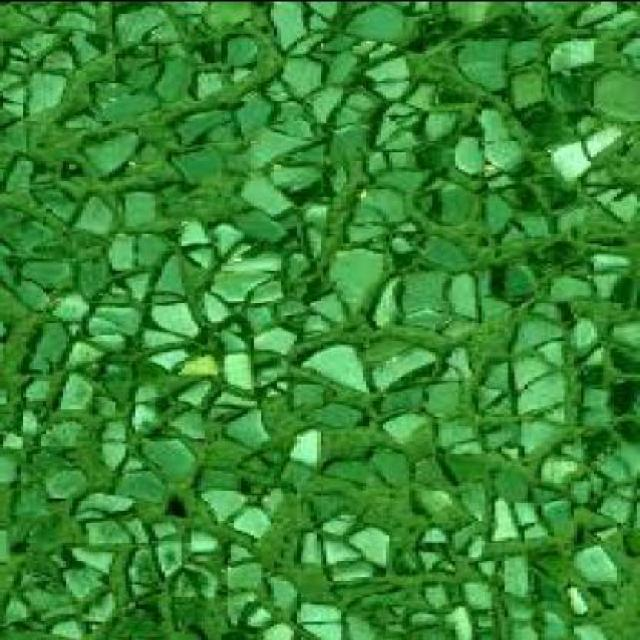GLASS: (1, 1, 638, 638), (3, 5, 435, 312), (385, 279, 607, 627), (3, 203, 280, 428), (307, 435, 587, 593), (212, 373, 419, 533), (393, 110, 581, 280), (3, 454, 172, 638), (366, 324, 446, 382), (80, 128, 146, 183), (99, 73, 172, 119), (307, 340, 379, 386), (245, 163, 306, 215), (400, 264, 458, 307), (512, 309, 573, 346), (178, 104, 231, 144), (202, 482, 250, 526), (225, 406, 277, 446), (175, 143, 231, 180), (452, 270, 492, 318), (554, 136, 598, 178), (235, 497, 287, 529), (251, 318, 303, 349), (428, 101, 462, 144), (488, 136, 534, 166), (227, 346, 261, 383), (455, 135, 485, 172), (454, 314, 486, 335)
